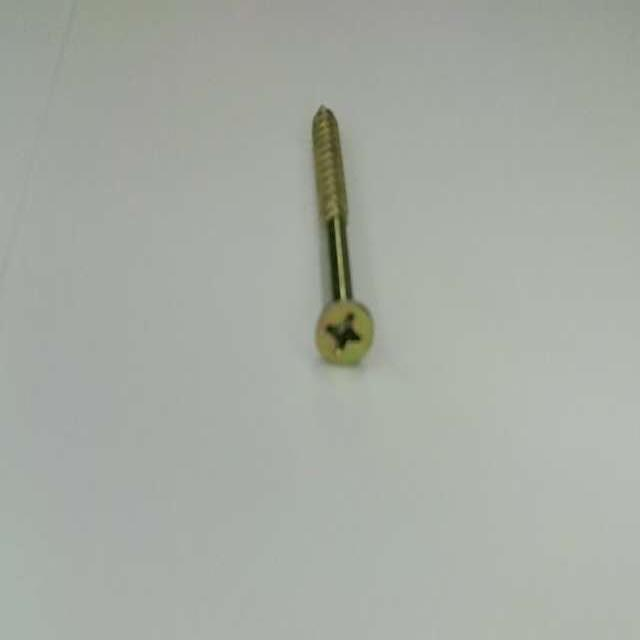Parafuso: (313, 105, 373, 363)
